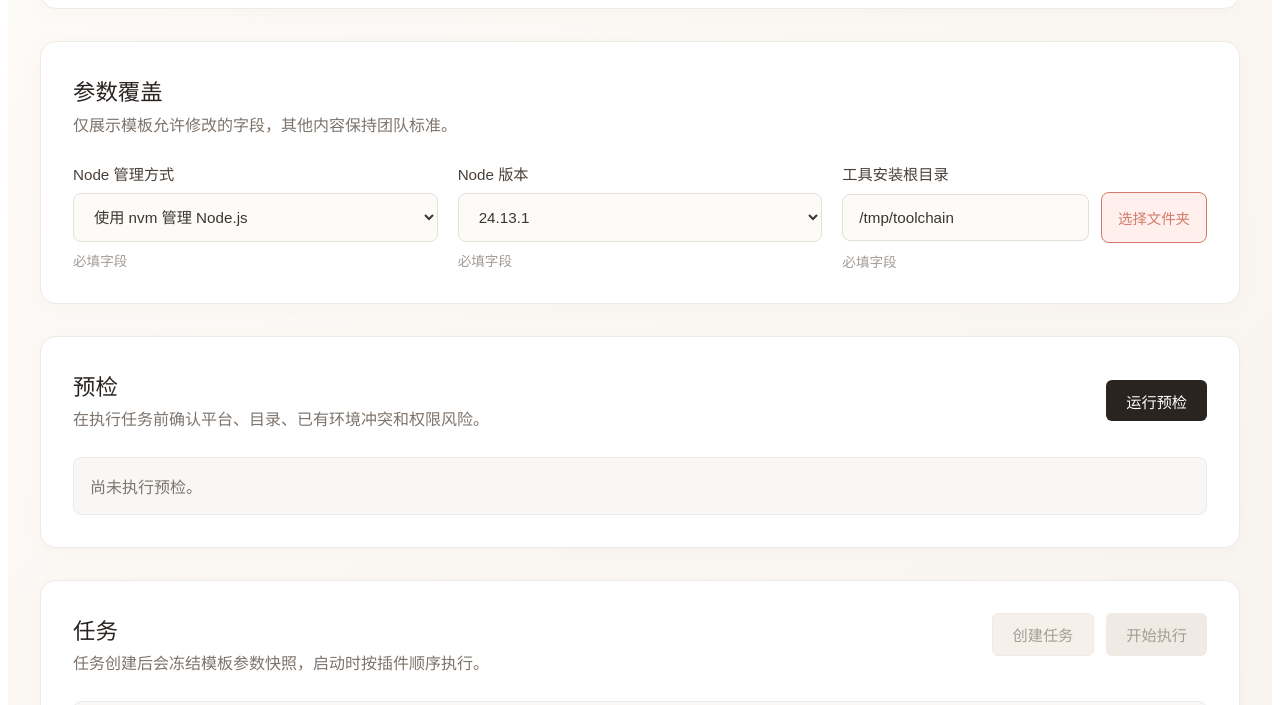
Test: App › switches to the beginner guide and back without losing workspace state
(page scrolled)
Click the button "运行预检" at [1157, 401], box [1106, 380, 1207, 421]
(page scrolled)
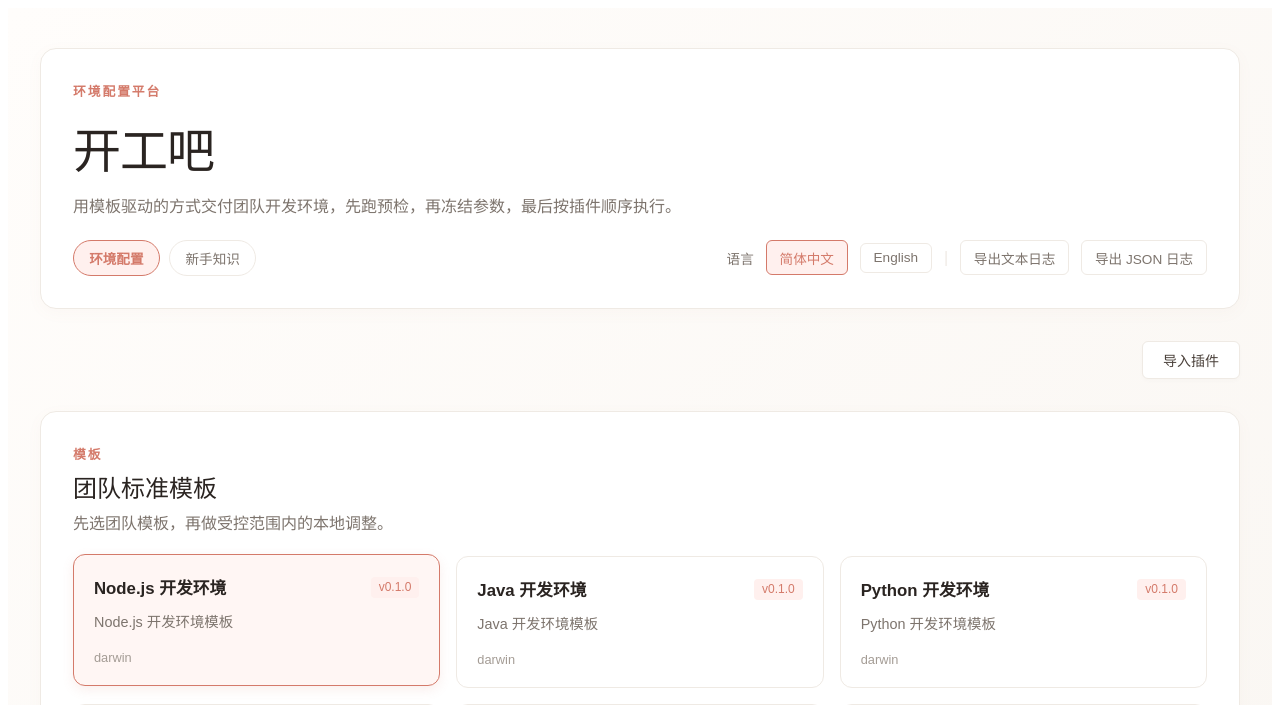
Click the button "新手知识" at [213, 258], box [169, 240, 256, 276]
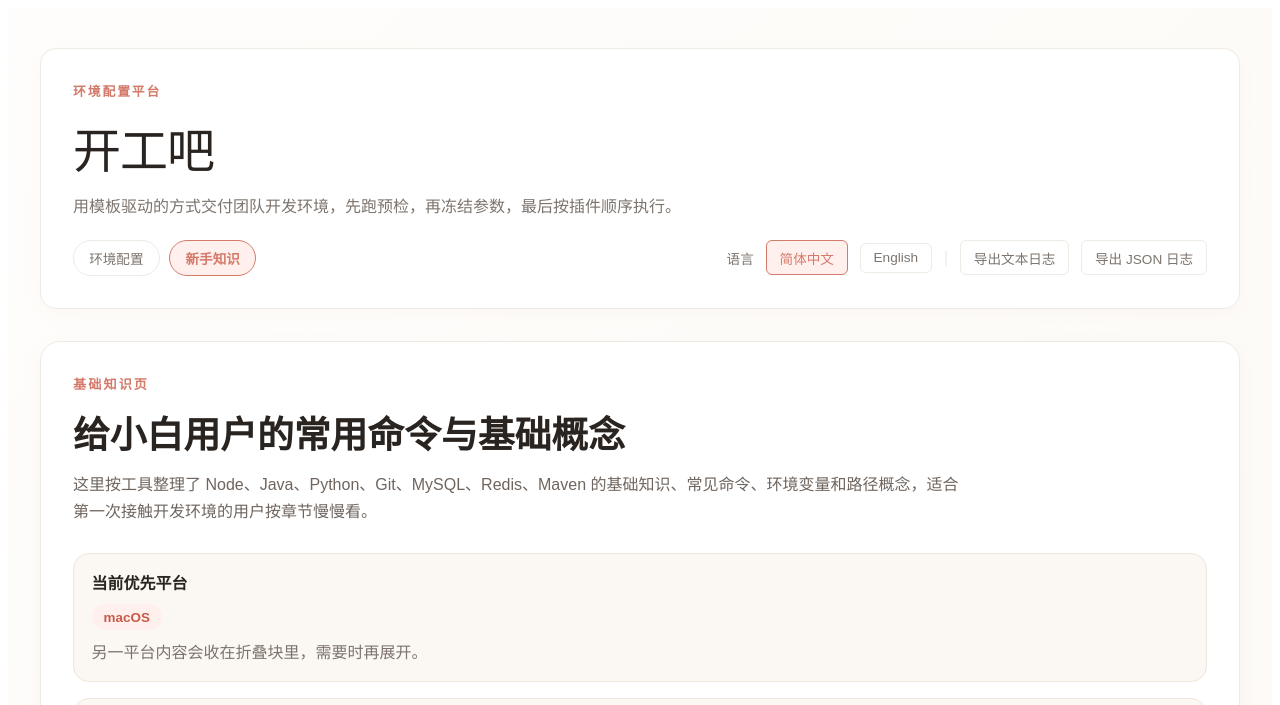
Check: the heading "给小白用户的常用命令与基础概念" is shown, box [73, 415, 625, 456]
Check: the button "导入插件" is gone
Click the button "环境配置" at [116, 258], box [73, 240, 160, 276]
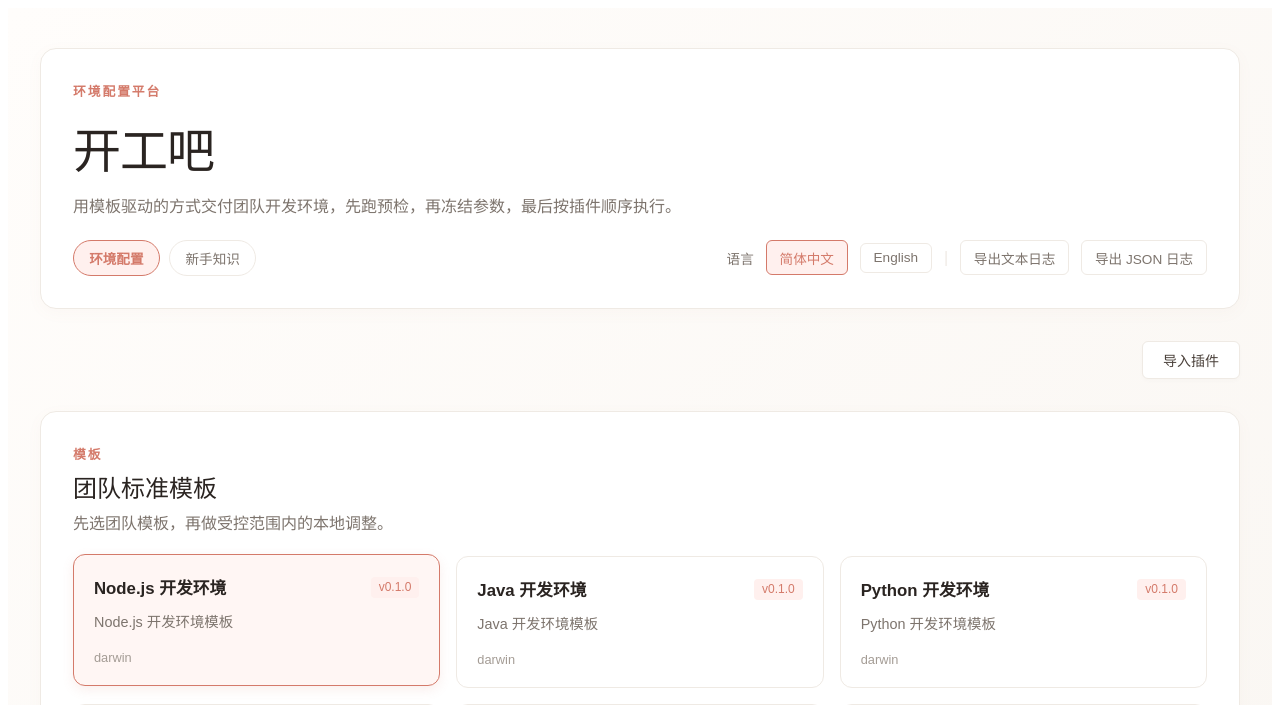
Check: the button "导入插件" is shown, box [1142, 341, 1240, 379]
